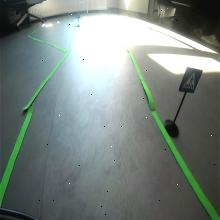crosswalk: (179, 67, 203, 93)
